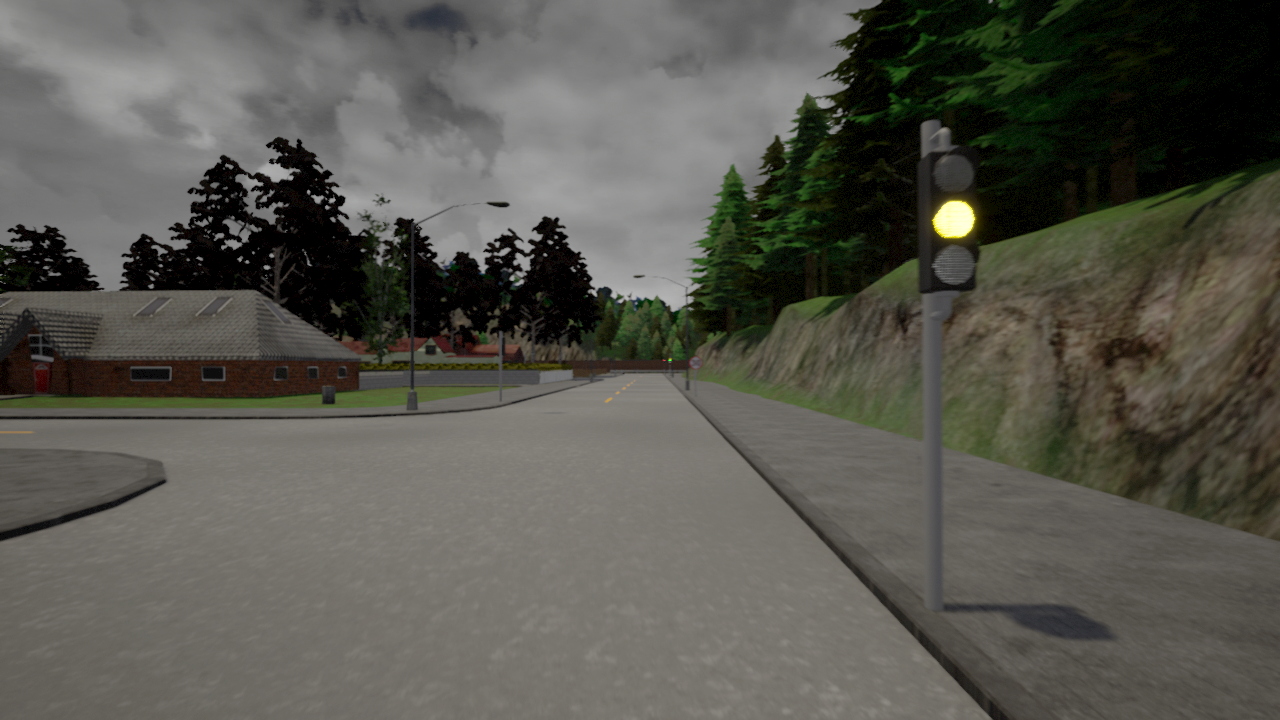yellow: (916, 145, 985, 298)
